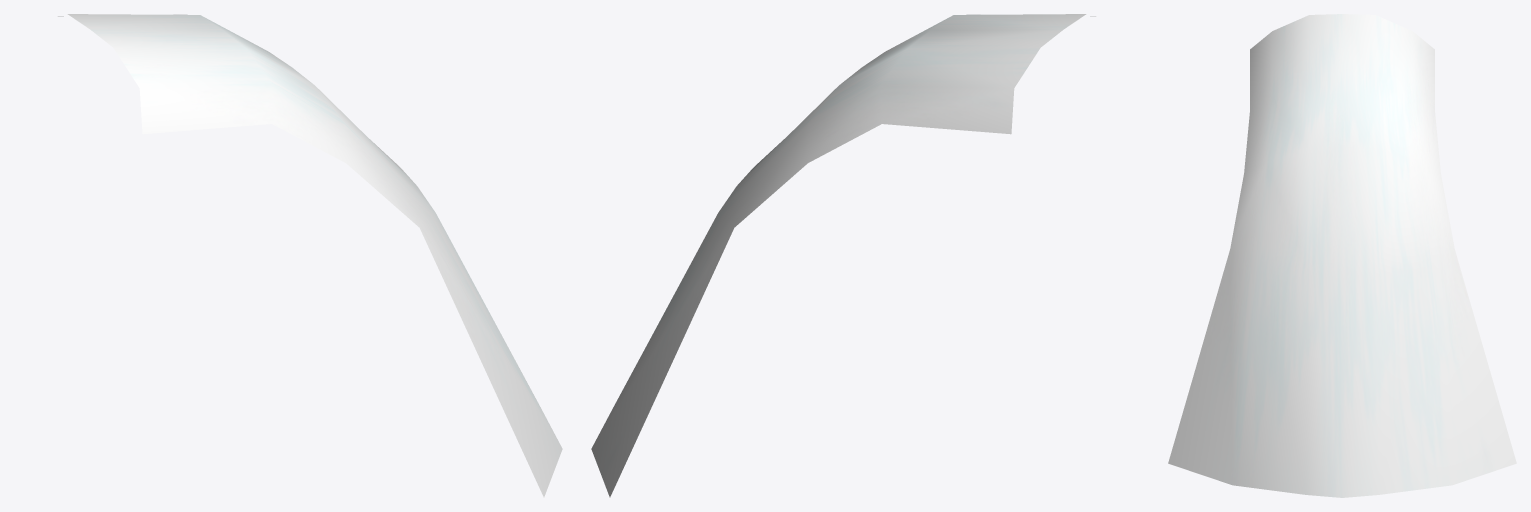
Rendered from waterfall-turtle02-2.glb.
The picture shows the model from 3 angles, left to right: view 1: azimuth 30°, elevation 25°; view 2: azimuth 150°, elevation 25°; view 3: azimuth 270°, elevation 25°; orthographic projection. The views are drawn at different scales.
Parts seen in each view (by area): view 1: waterfall02; view 2: waterfall02; view 3: waterfall02.
Part boxes in pixels (<box>): waterfall02: <box>58,14,562,497</box>; waterfall02: <box>591,14,1095,497</box>; waterfall02: <box>1168,14,1516,497</box>.
Size of the model in its own units: 2.15 by 2.12 by 2.02.
1 material, 1 textured.
